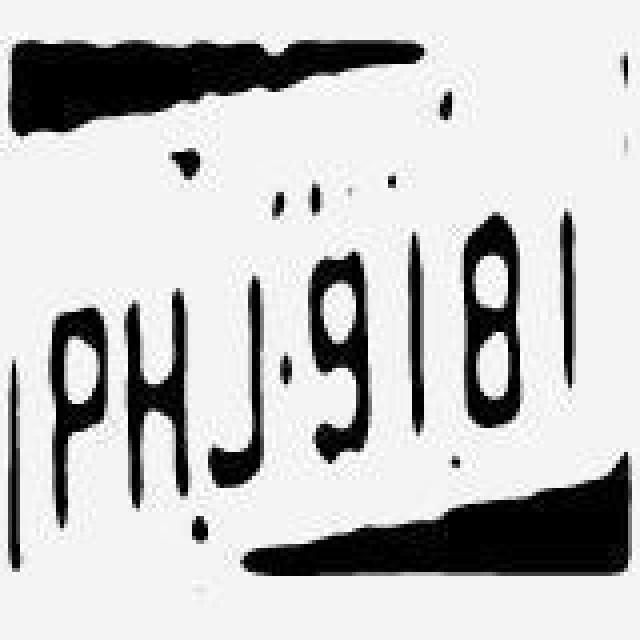1: (540, 196, 596, 444), (384, 216, 432, 472)
8: (450, 182, 534, 442)
9: (292, 244, 372, 508)
H: (118, 250, 194, 510)
J: (198, 244, 266, 500)
P: (40, 264, 120, 544)
